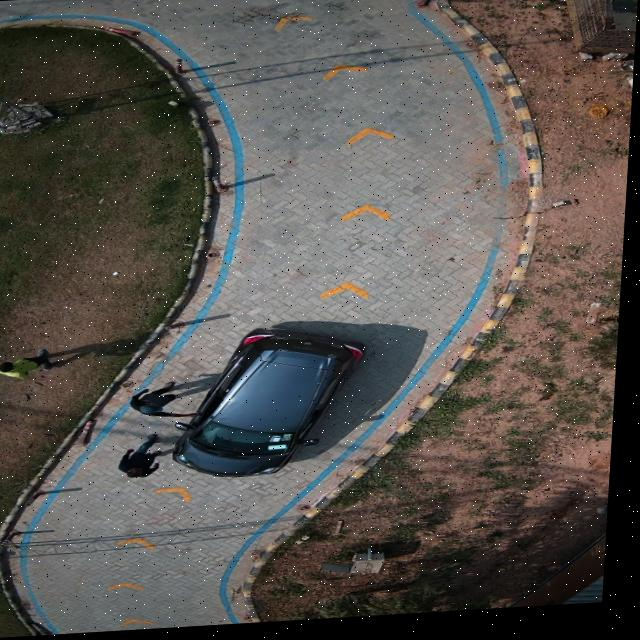car: (178, 332, 369, 478)
